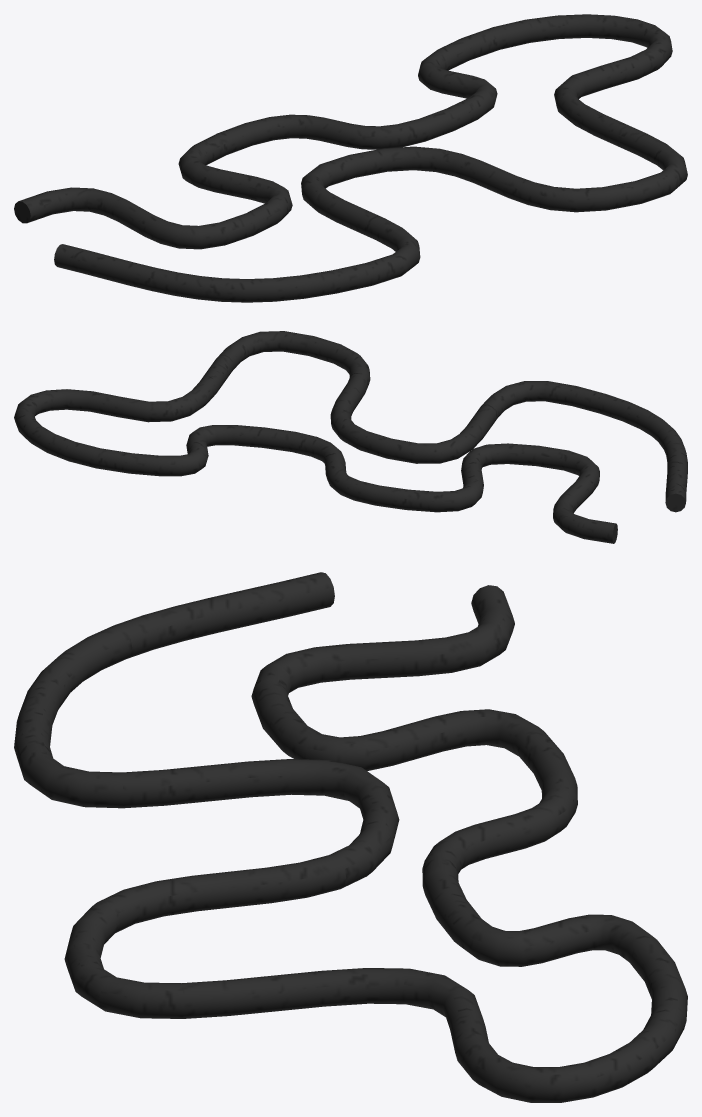
Rendered from Wires.fbx.
3 views of the same model, one above another, from view 1: azimuth 30°, elevation 25°; view 2: azimuth 150°, elevation 25°; view 3: azimuth 270°, elevation 25° (orthographic). The views are drawn at different scales.
Visible parts, largest first — view 1: BézierCurve.001; view 2: BézierCurve.001; view 3: BézierCurve.001.
Part boxes in pixels (<box>): BézierCurve.001: <box>14,14,687,302</box>; BézierCurve.001: <box>14,331,687,543</box>; BézierCurve.001: <box>14,572,687,1102</box>.
Size of the model in its own units: 468 by 14 by 262.
